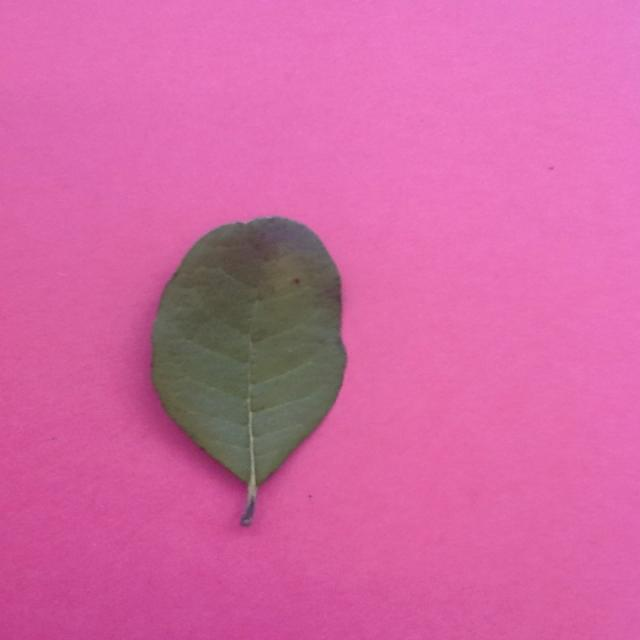foliage: (140, 212, 360, 526)
